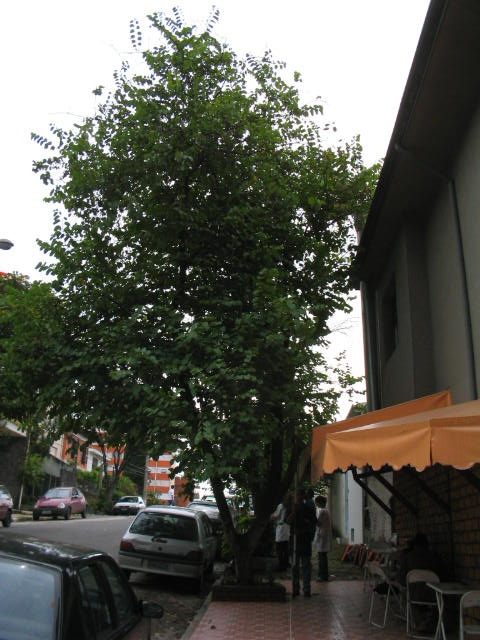crown: (30, 127, 382, 487)
stem: (218, 538, 265, 585)
stick: (286, 439, 301, 599)
tree: (29, 125, 384, 585)
